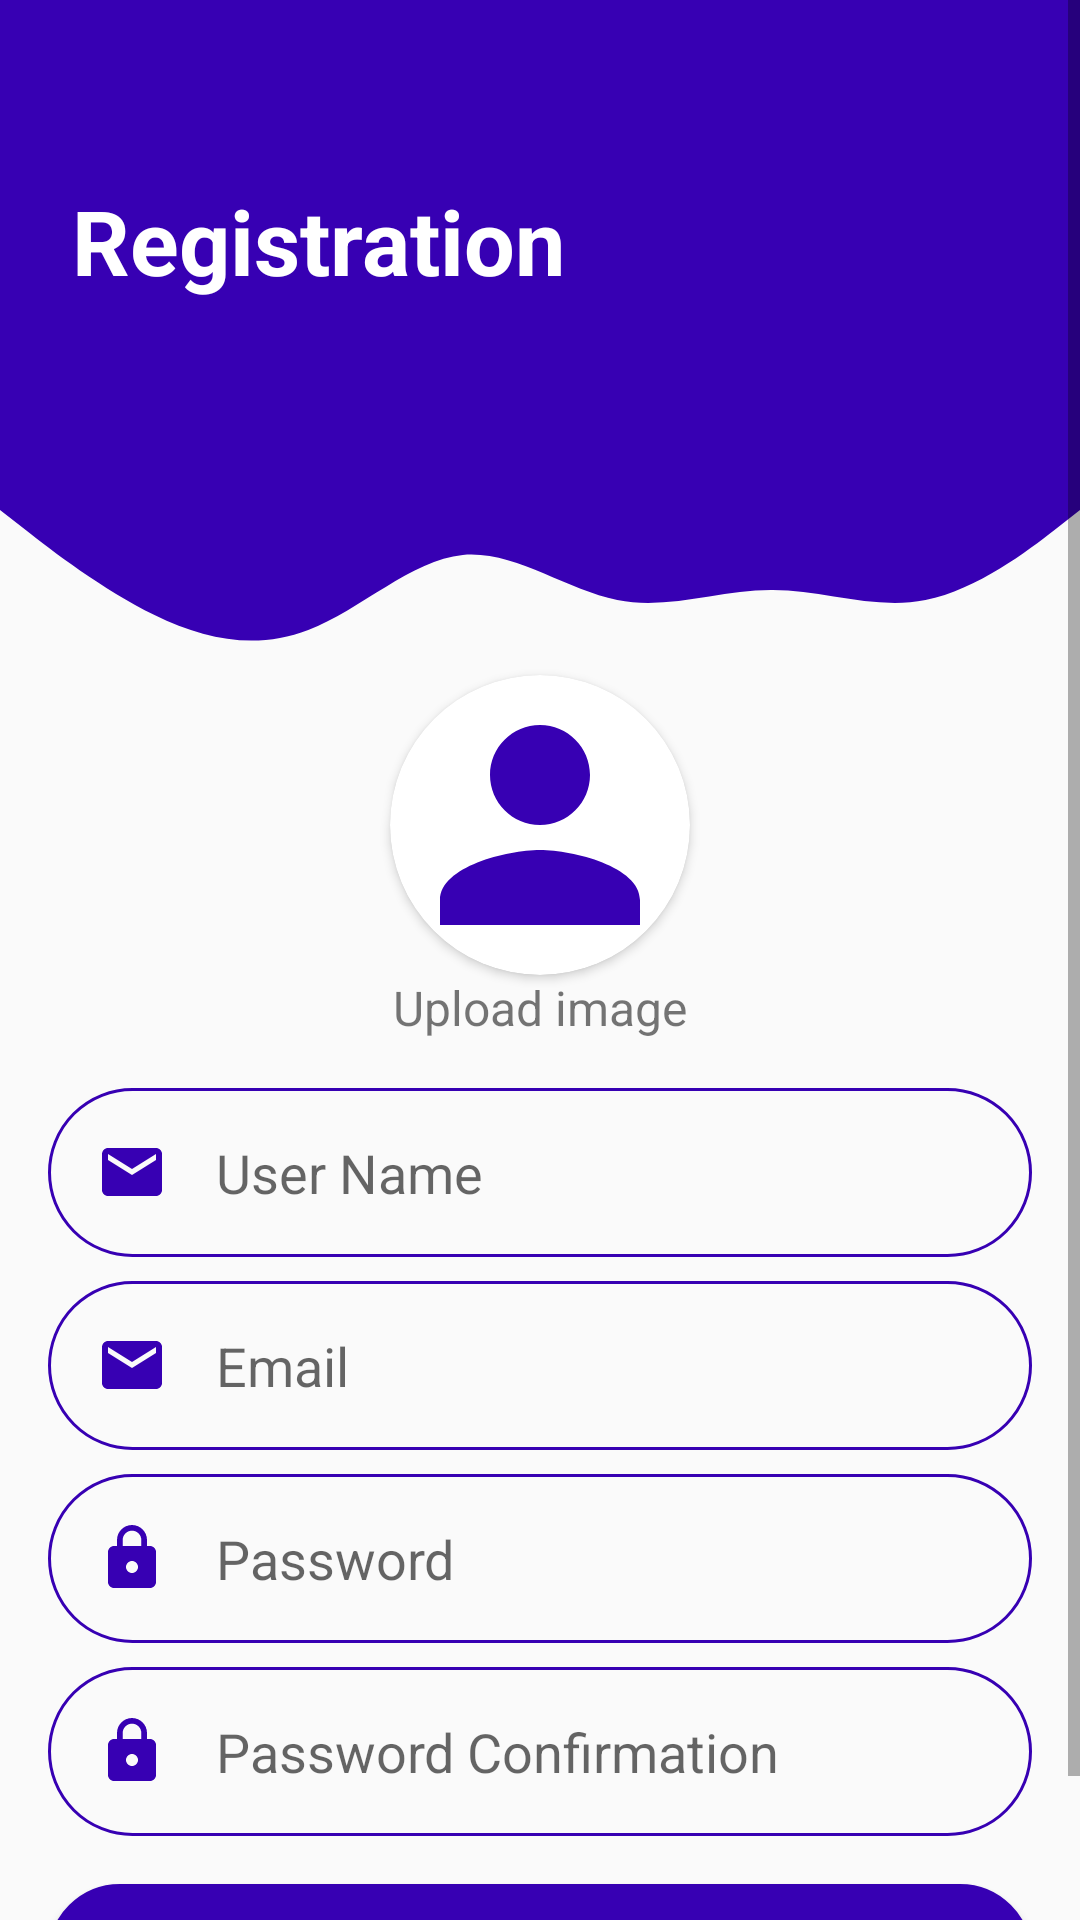

Icon click points for this 1080w x 1920h phone screenshot, format (x,y):
person purble: (540,850)
